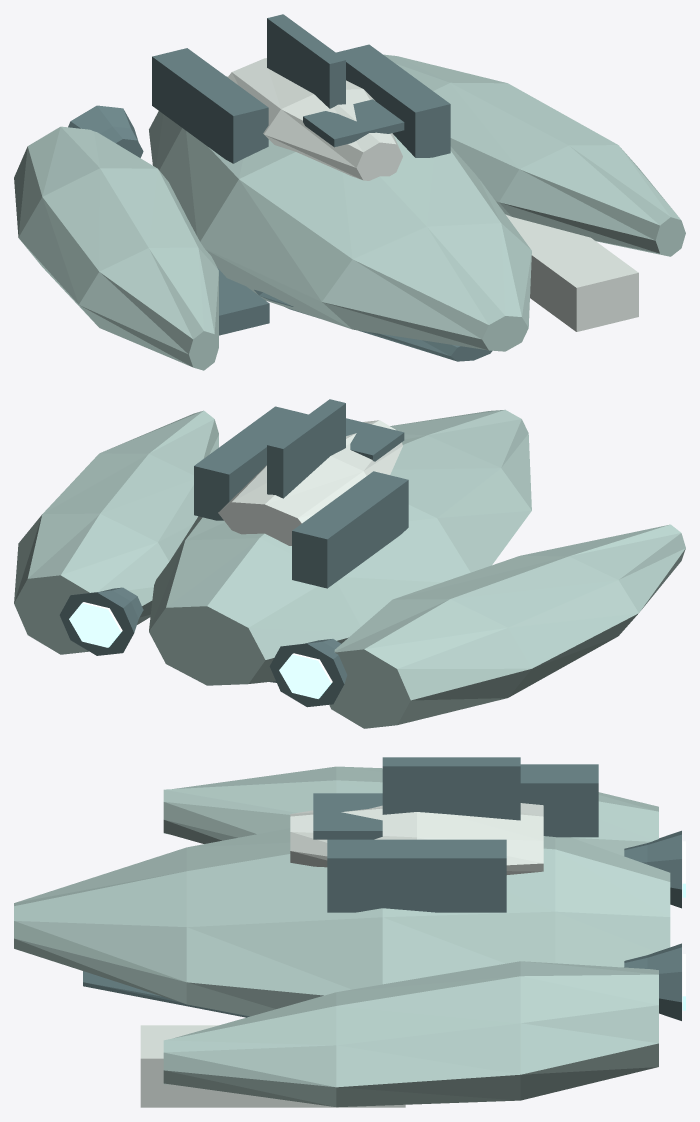
3 renders of one model, top to bottom at view 1: azimuth 30°, elevation 25°; view 2: azimuth 150°, elevation 25°; view 3: azimuth 270°, elevation 25°, orthographic. The views are drawn at different scales.
Size of the model in its own units: 9.53 by 3.72 by 9.
